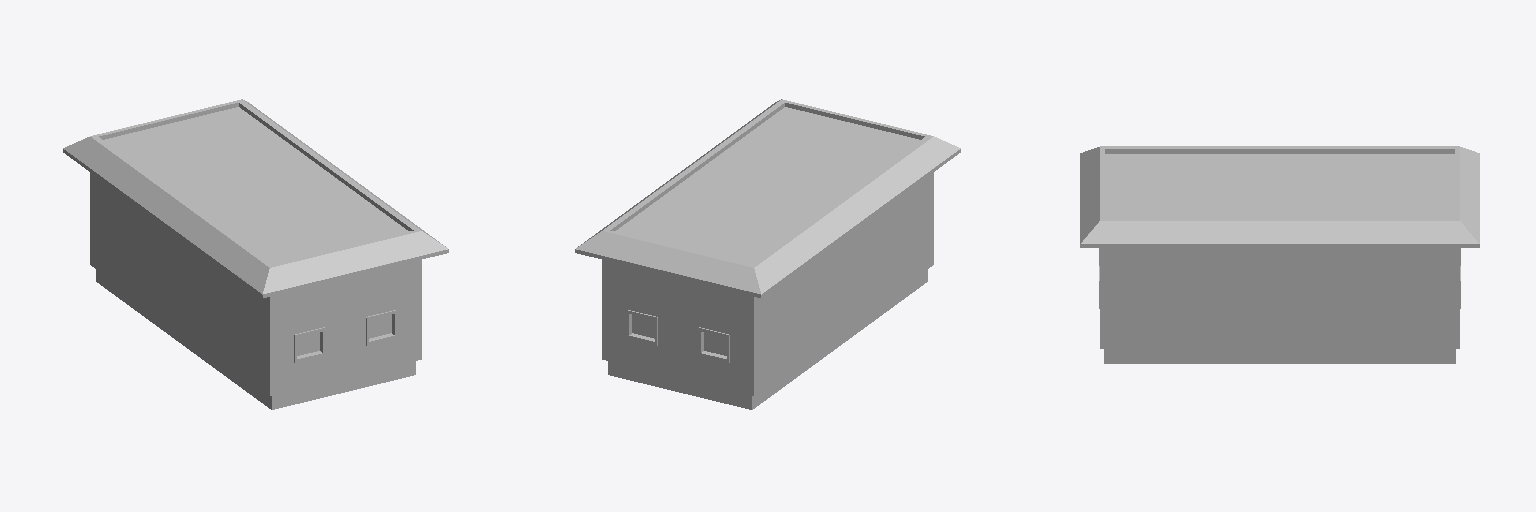
File: Building_4.obj
3 views of the same model, side by side, from view 1: azimuth 30°, elevation 25°; view 2: azimuth 150°, elevation 25°; view 3: azimuth 270°, elevation 25° (orthographic).
Parts seen in each view (by area): view 1: Building_4; view 2: Building_4; view 3: Building_4.
Part boxes in pixels (x1,y1,x2,y2): Building_4: (63,99,448,409); Building_4: (575,99,960,409); Building_4: (1080,146,1479,363).
Bounding box in the file's own units: 8.46 × 6.27 × 15.69.